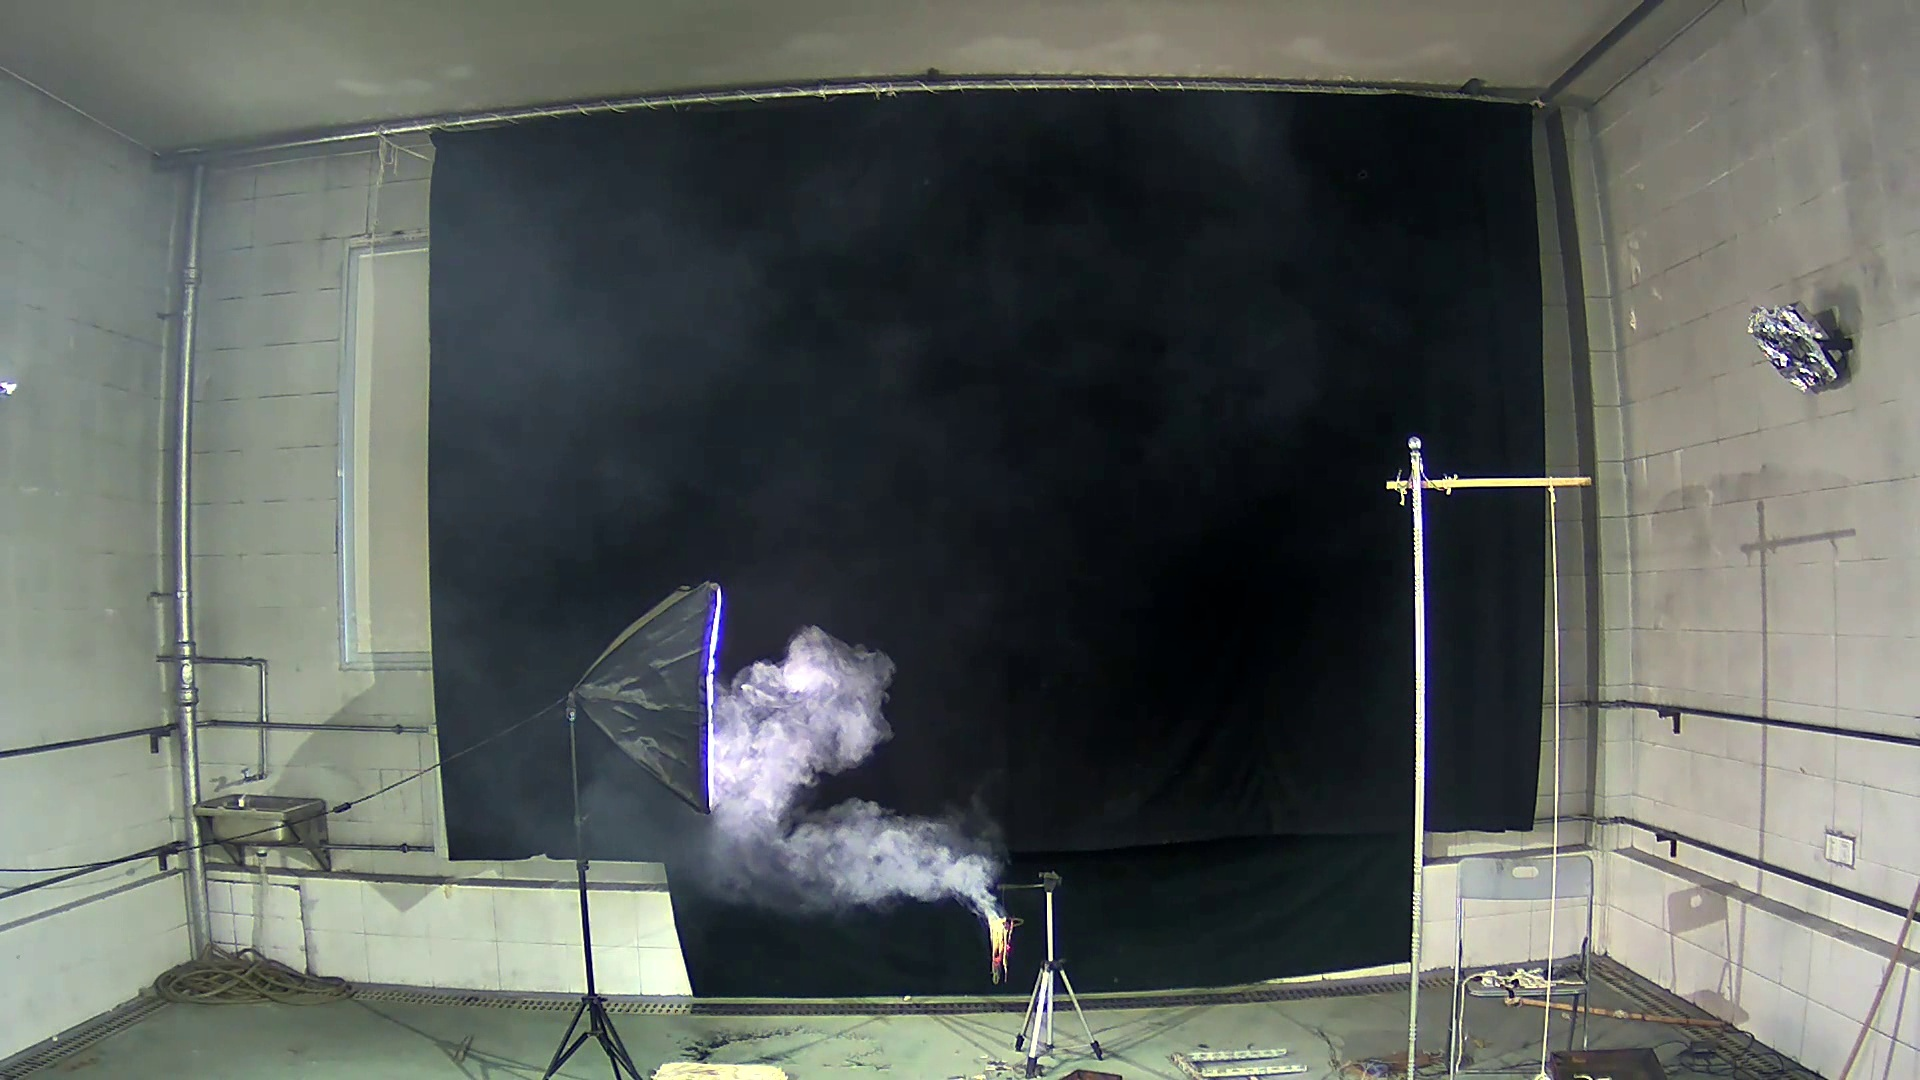smoke: (725, 609, 996, 926)
